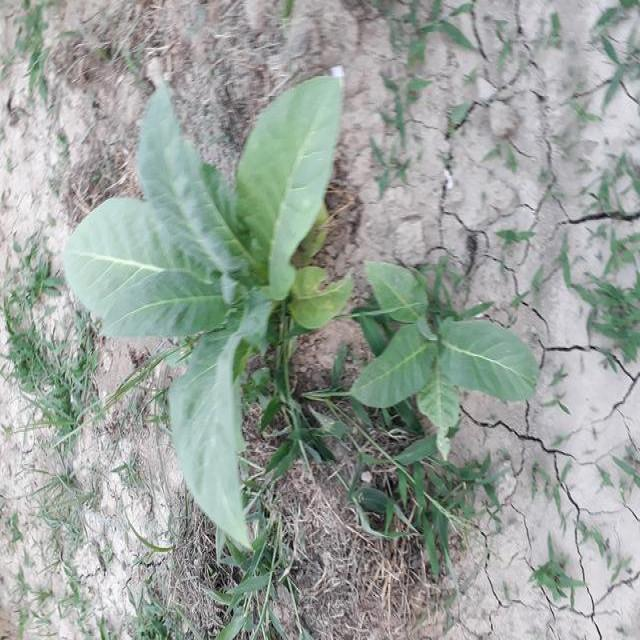crop: (52, 58, 360, 570)
